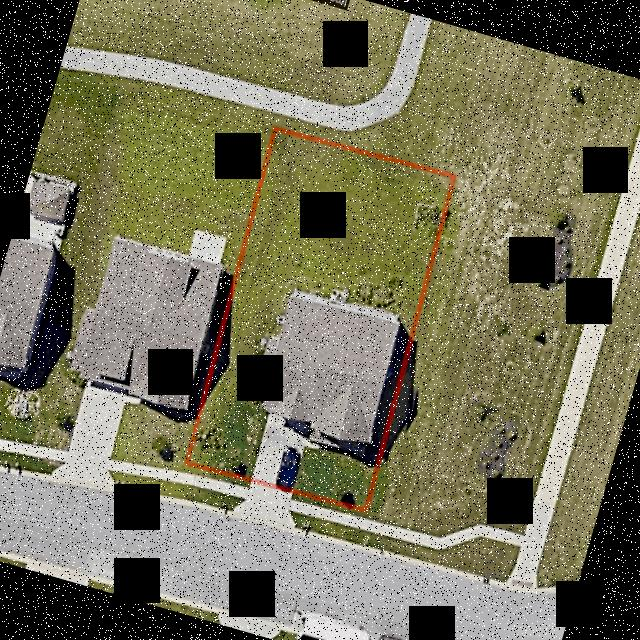Driveway: (252, 414, 322, 489)
Extra Driveway: (234, 484, 293, 527)
Extra Lawn: (291, 513, 359, 542), (177, 481, 242, 510), (291, 493, 366, 518), (183, 464, 249, 487)
Extra Sidewalk: (289, 499, 365, 530), (180, 469, 248, 498)
House: (256, 291, 399, 442)
Sidewalk: (284, 418, 365, 454)
